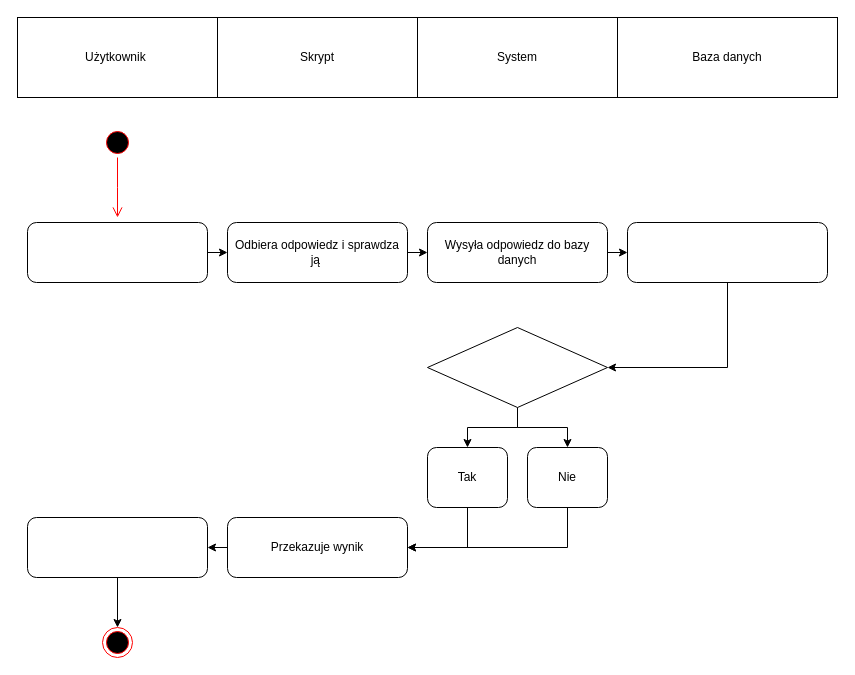
Some shapes in this 855 by 675 pixel diagram are drawn without their labels. Here are the shapes that lost their labels. From the top down, the centre of each, then its label:
At pixel 117 252: "Udziela odpowiedzi na pyatnie".
At pixel 727 252: "Sprawdza odpowiedzi".
At pixel 517 367: "Czy odpowiedz jest poprawna?".
At pixel 117 547: "Użytkownik widzi".
